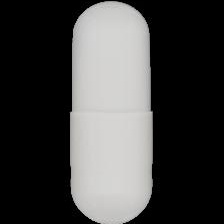54868-5662: (0, 0, 224, 224)
